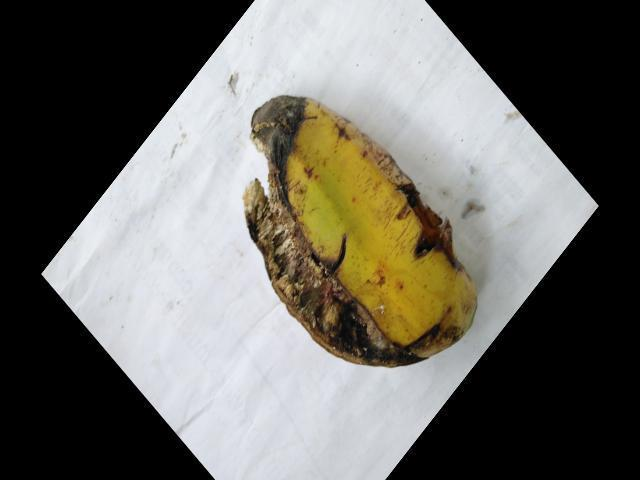rotten: (215, 86, 476, 366)
